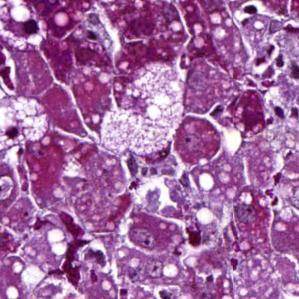ballooning: (97, 60, 190, 158), (3, 93, 52, 154)
